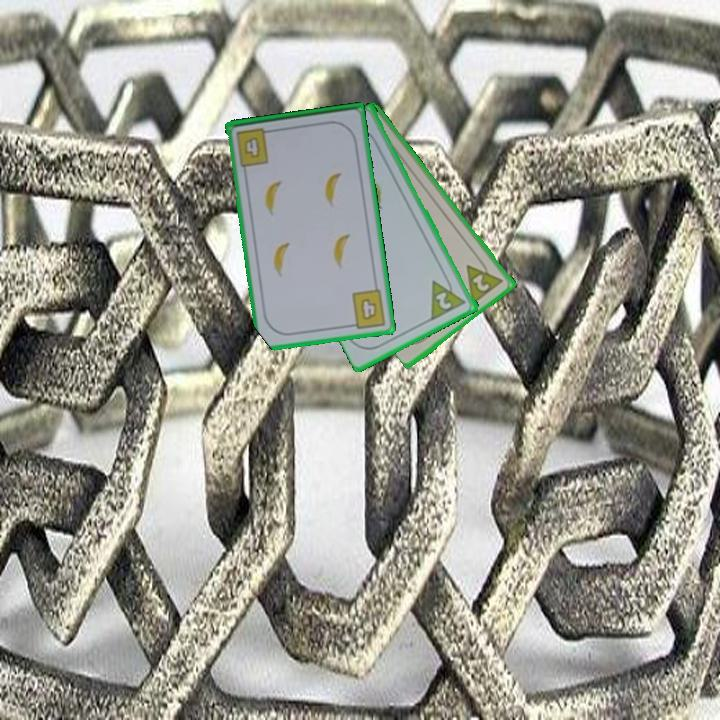2p: (463, 253, 507, 306), (432, 288, 455, 313)
4b: (345, 286, 389, 331), (232, 124, 276, 169)
